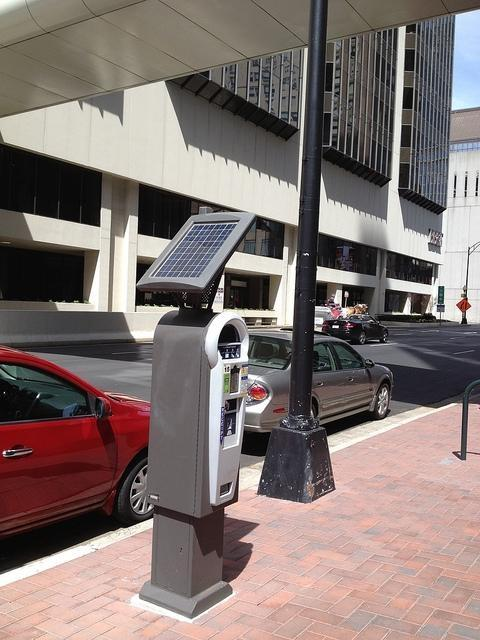car: (0, 344, 155, 542), (244, 328, 396, 435), (322, 314, 386, 342)
